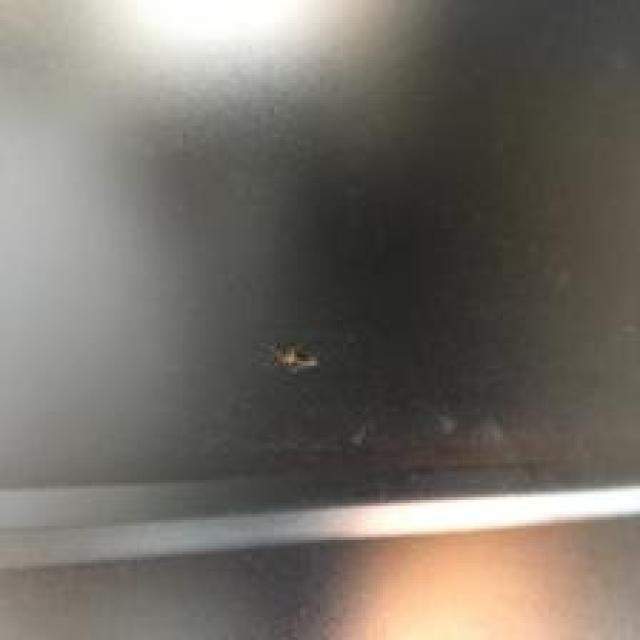Culex: (264, 338, 319, 376)
